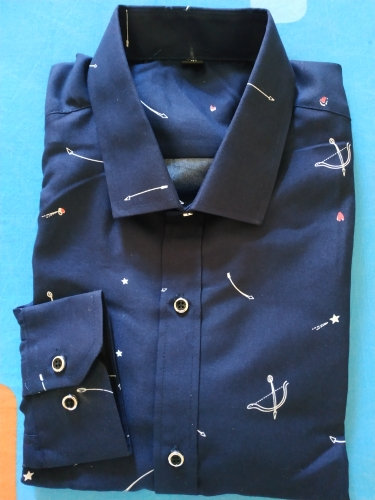shirts: (30, 7, 347, 497)
